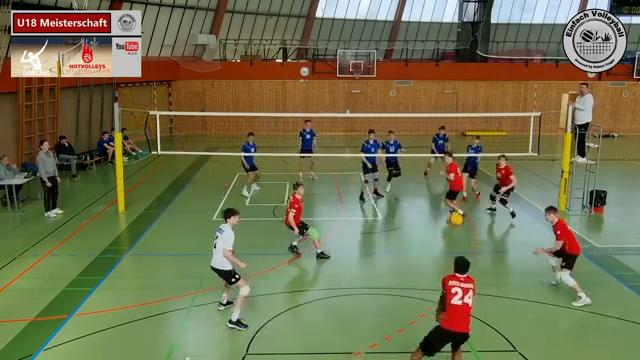Player: (534, 206, 591, 306), (210, 208, 249, 329), (284, 182, 329, 259), (486, 154, 516, 221), (359, 129, 383, 201), (441, 151, 464, 215), (382, 130, 403, 192), (241, 132, 260, 197), (299, 120, 316, 179), (462, 156, 479, 200), (431, 126, 449, 154)
Receive: (404, 250, 477, 360)
ball: (449, 211, 463, 226)
